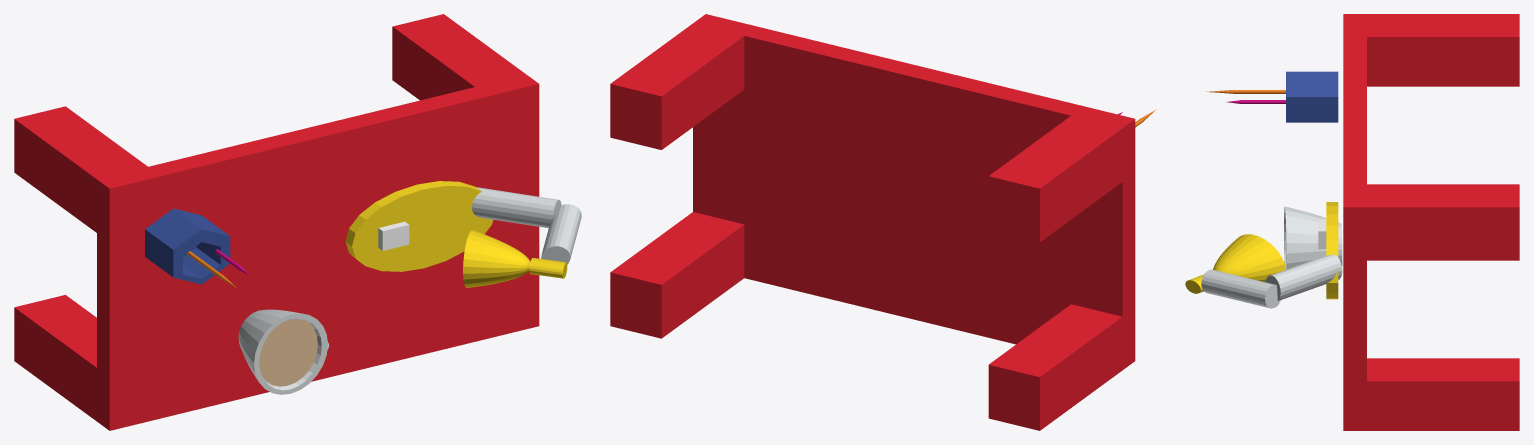
The model's file is tinker.obj.
3 renders of one model, left to right at view 1: azimuth 30°, elevation 25°; view 2: azimuth 150°, elevation 25°; view 3: azimuth 270°, elevation 25°, orthographic. The views are drawn at different scales.
Parts seen in each view (by area): view 1: group_0_15277357, group_0_16768282, group_0_14541540, group_0_3888547, group_0_14860437, group_0_16448250; view 2: group_0_15277357; view 3: group_0_15277357, group_0_14541540, group_0_16768282, group_0_3888547.
Boxes of the visible parts, bbox=[...] form: group_0_15277357: bbox=[14, 14, 539, 430]; group_0_16768282: bbox=[345, 181, 567, 287]; group_0_14541540: bbox=[238, 187, 581, 394]; group_0_3888547: bbox=[145, 208, 230, 284]; group_0_14860437: bbox=[259, 319, 317, 386]; group_0_16448250: bbox=[378, 221, 409, 250]; group_0_15277357: bbox=[610, 14, 1135, 430]; group_0_15277357: bbox=[1343, 14, 1519, 430]; group_0_14541540: bbox=[1201, 206, 1342, 308]; group_0_16768282: bbox=[1185, 202, 1338, 299]; group_0_3888547: bbox=[1286, 71, 1338, 122].
Bounding box in the file's own units: 114 × 61.24 × 83.
